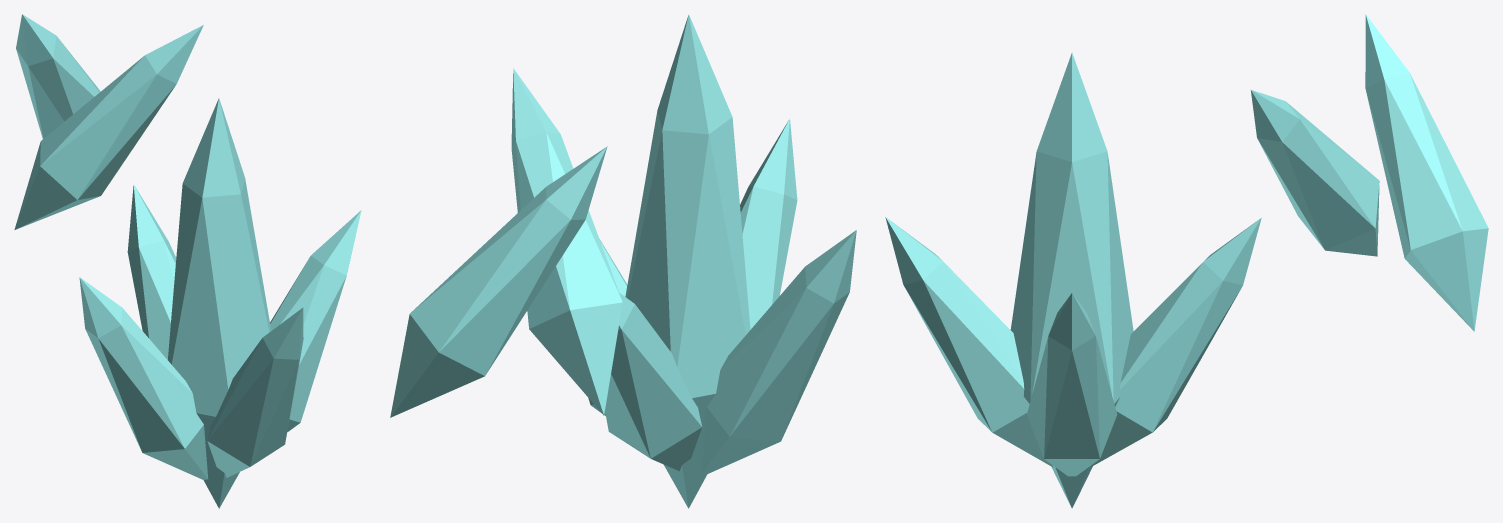
File: Ice.fbx
3 views of the same model, side by side, from view 1: azimuth 30°, elevation 25°; view 2: azimuth 150°, elevation 25°; view 3: azimuth 270°, elevation 25° (orthographic). The views are drawn at different scales.
Visible parts, largest first — view 1: Cube, Cube.001, Cube.002; view 2: Cube, Cube.002, Cube.001; view 3: Cube, Cube.002, Cube.001.
Part boxes in pixels (box(x1,y1,x2,y2)): Cube: box(79, 98, 361, 508); Cube.001: box(14, 25, 203, 229); Cube.002: box(16, 14, 100, 138); Cube: box(588, 14, 856, 508); Cube.002: box(390, 146, 607, 417); Cube.001: box(511, 68, 622, 415); Cube: box(885, 52, 1261, 508); Cube.002: box(1365, 14, 1488, 331); Cube.001: box(1251, 90, 1379, 256).
Bounding box in the file's own units: 423 × 592 × 705.
